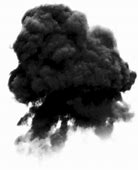smoke: (12, 4, 132, 146)
